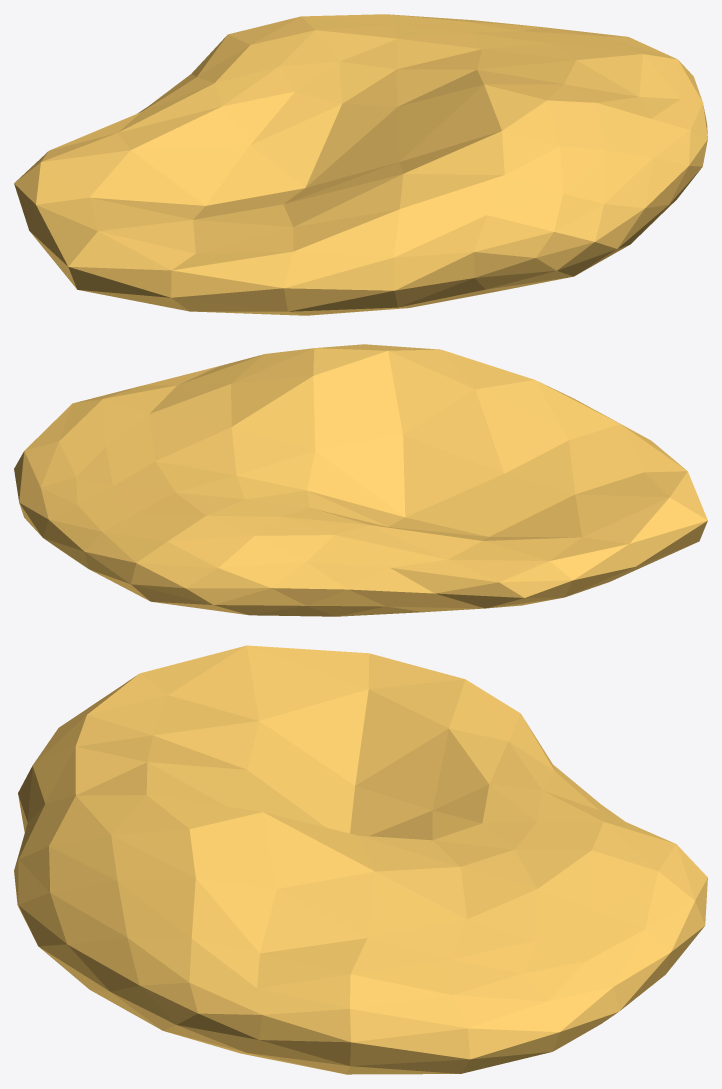
Rendered from Island_E01_Small01_Model.fbx.
3 renders of one model, top to bottom at view 1: azimuth 30°, elevation 25°; view 2: azimuth 150°, elevation 25°; view 3: azimuth 270°, elevation 25°, orthographic. The views are drawn at different scales.
Visible parts, largest first — view 1: Island_E_Small01; view 2: Island_E_Small01; view 3: Island_E_Small01.
Part boxes in pixels (<box>): Island_E_Small01: <box>14,14,707,315</box>; Island_E_Small01: <box>14,344,707,616</box>; Island_E_Small01: <box>14,645,707,1074</box>.
Bounding box in the file's own units: 49.05 × 9.45 × 38.17.
